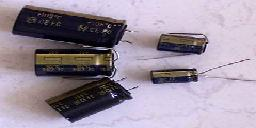Electrolytic-capacitor: (11, 4, 135, 47), (42, 75, 138, 125), (147, 57, 256, 86), (33, 46, 119, 79), (153, 30, 213, 53)
